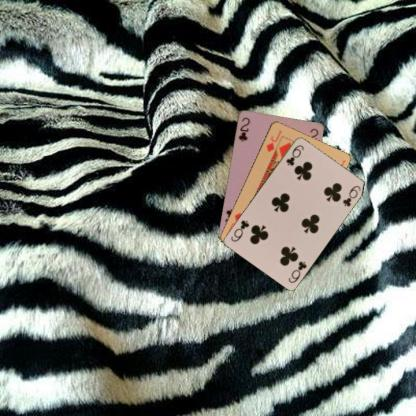2c: (236, 114, 250, 143)
6c: (285, 258, 308, 284), (283, 142, 305, 167)
Jd: (264, 127, 283, 153)
